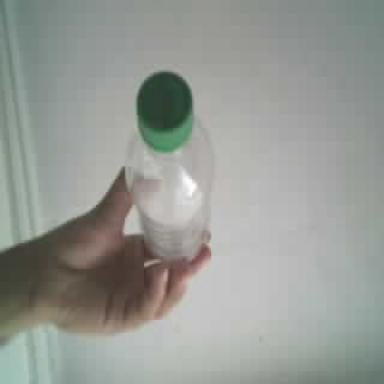bottle: (125, 70, 212, 262)
